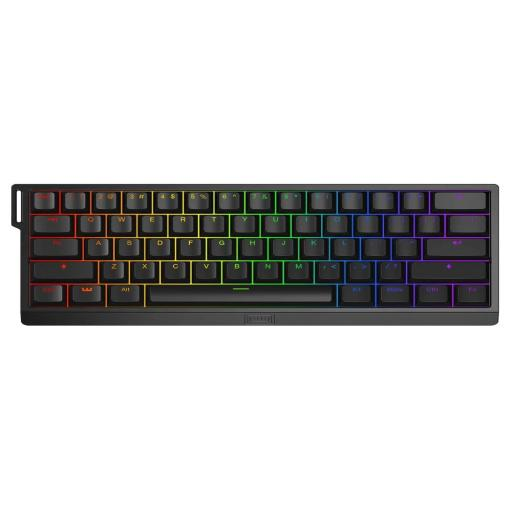KEYBOARD-2: (12, 183, 499, 325)
